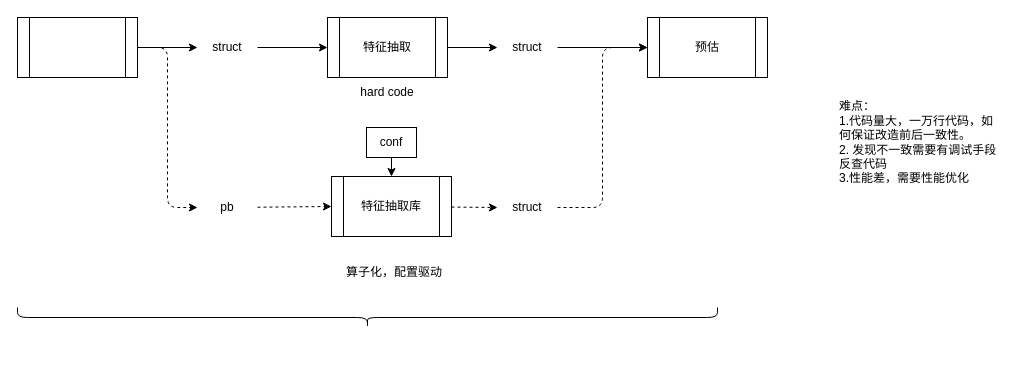
Some shapes in this 1015 by 385 pixel diagram are drawn without their labels. The box of each missing label's shape, as (x1, y1, x2, y2) in pixels:
Ranking服务: (16, 306, 718, 328)
样本拼接: (16, 16, 138, 78)
